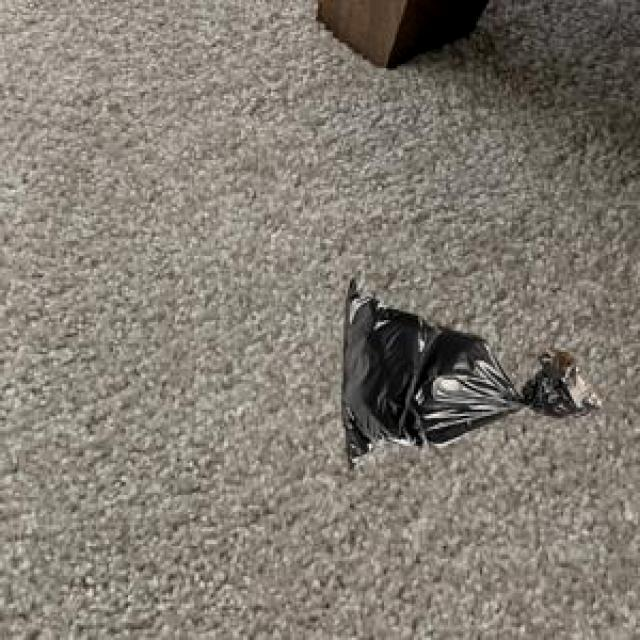Trashbag: (338, 269, 606, 475)
